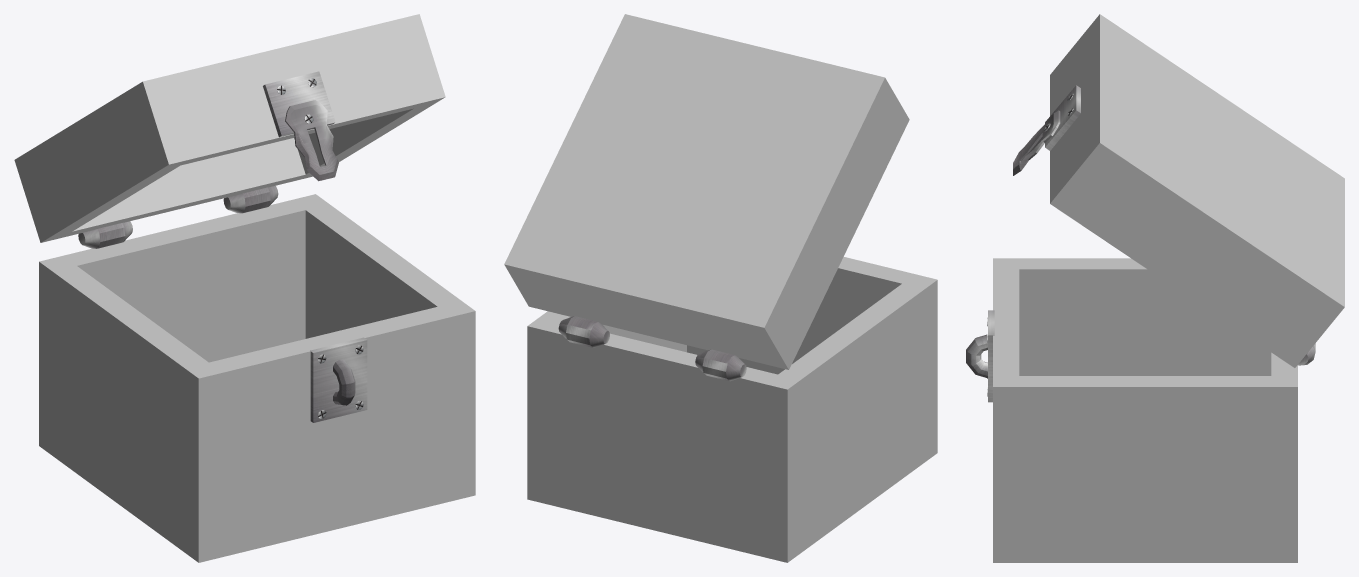
Rendered from ChestV1.obj.
3 renders of one model, left to right at view 1: azimuth 30°, elevation 25°; view 2: azimuth 150°, elevation 25°; view 3: azimuth 270°, elevation 25°, orthographic. The views are drawn at different scales.
Parts seen in each view (by area): view 1: chest bottomeChest chest, chest chest topChest, chest bottomLockPad lockpads, chest lockpads topLock, chest lockpads topLockPad, chest pCylinder3 hinges, chest hinges pCylinder1, chest lockpads bottomLock; view 2: chest chest topChest, chest bottomeChest chest, chest pCylinder3 hinges, chest hinges pCylinder1; view 3: chest bottomeChest chest, chest chest topChest, chest lockpads topLock, chest lockpads topLockPad, chest lockpads bottomLock, chest bottomLockPad lockpads.
Part boxes in pixels (x1,y1,x2,y2): chest bottomeChest chest: (39, 194, 475, 562); chest chest topChest: (14, 14, 445, 242); chest bottomLockPad lockpads: (310, 337, 367, 422); chest lockpads topLock: (285, 100, 338, 181); chest lockpads topLockPad: (263, 71, 335, 137); chest pCylinder3 hinges: (78, 221, 132, 248); chest hinges pCylinder1: (223, 185, 278, 213); chest lockpads bottomLock: (333, 359, 355, 405); chest chest topChest: (504, 14, 909, 369); chest bottomeChest chest: (527, 257, 937, 562); chest pCylinder3 hinges: (695, 349, 746, 381); chest hinges pCylinder1: (558, 316, 609, 347); chest bottomeChest chest: (993, 258, 1297, 562); chest chest topChest: (1050, 14, 1344, 367); chest lockpads topLock: (1013, 110, 1060, 175); chest lockpads topLockPad: (1045, 85, 1080, 150); chest lockpads bottomLock: (966, 334, 987, 378); chest bottomLockPad lockpads: (988, 310, 994, 402).
Bounding box in the file's own units: 1 × 1.52 × 1.24.
